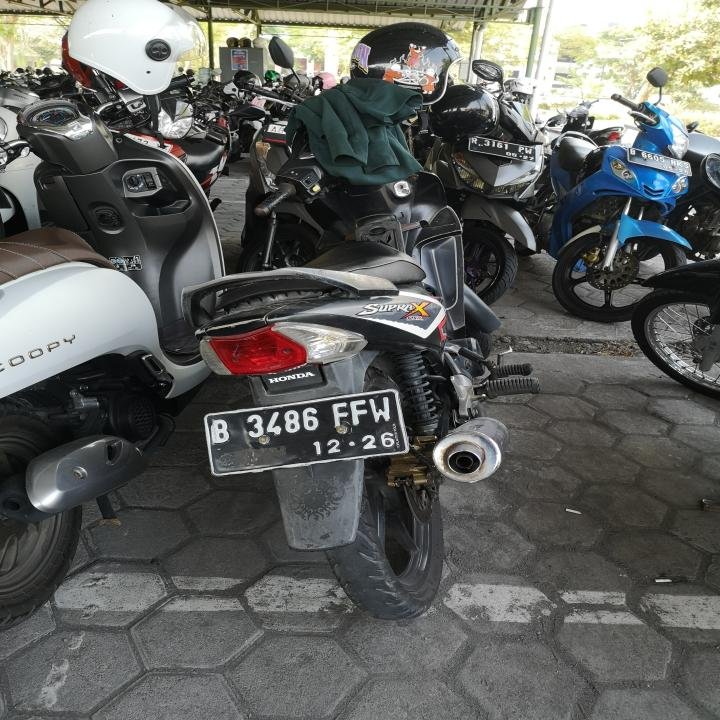plate: (197, 388, 408, 474), (467, 135, 537, 164), (627, 147, 693, 177)
